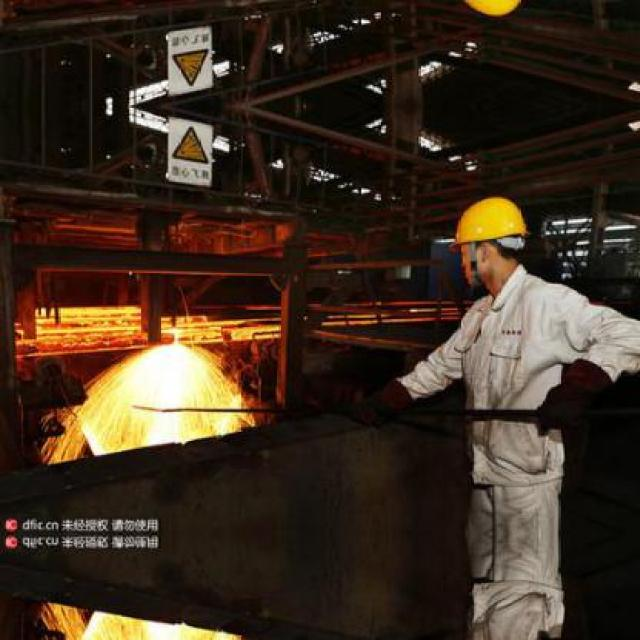helmet: (448, 188, 530, 292), (448, 0, 532, 25)
